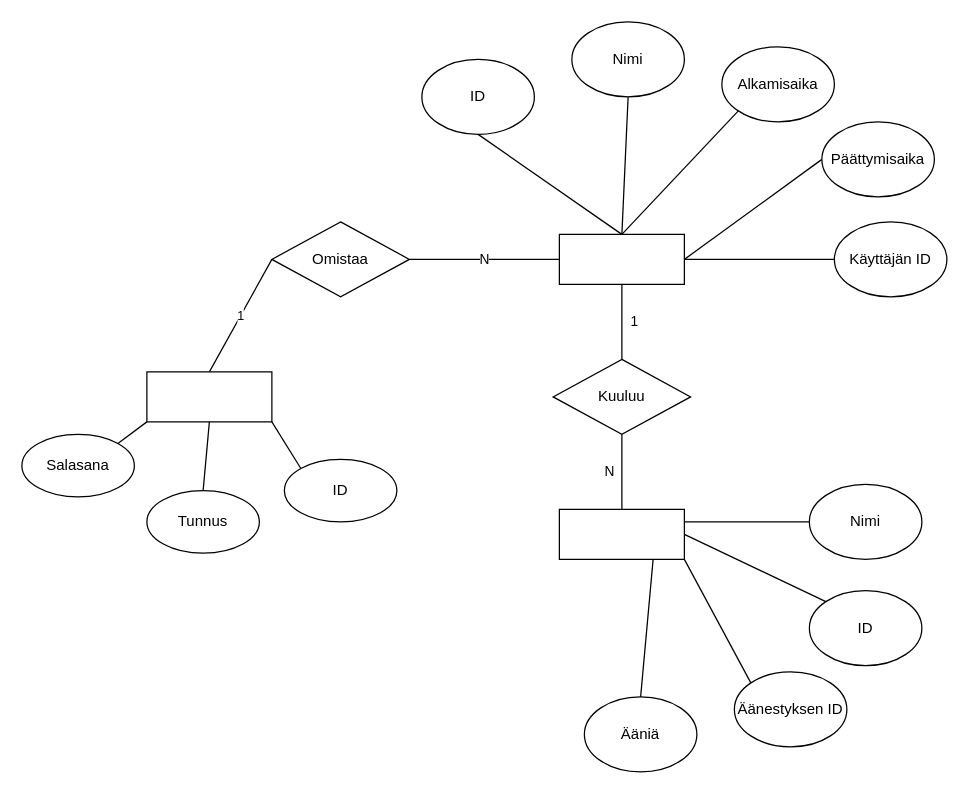
Image size: 969x794. Some labels were removed from this diagram. Here are the shapes that lost their labels. From the top down, the box of each, then its label:
(558, 233, 684, 284): Äänestys
(146, 371, 272, 422): Käyttäjä
(558, 508, 684, 559): Vaihtoehto
